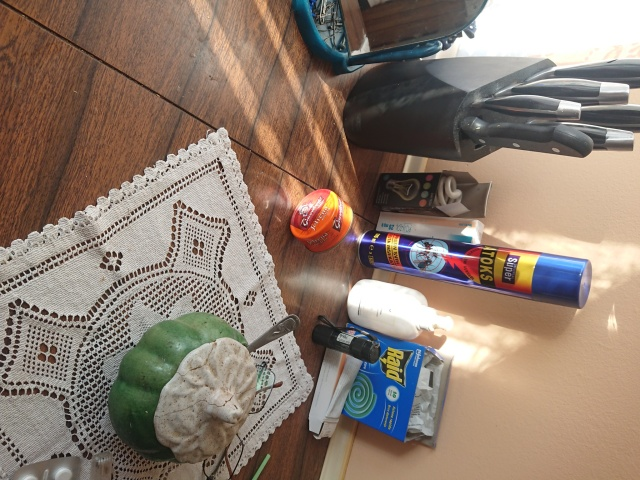Gavrilovic Pork Liver Pate 100g: (286, 186, 356, 255)
